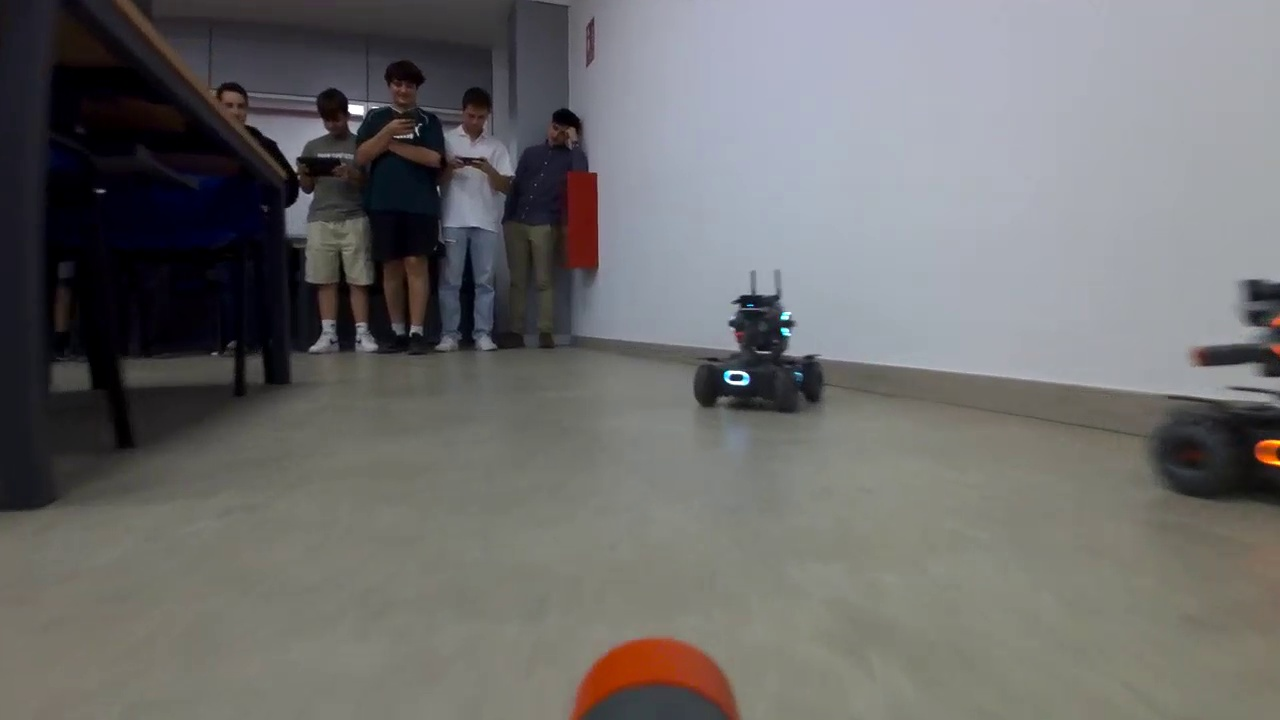robot: (1168, 279, 1280, 517), (710, 280, 828, 422)
